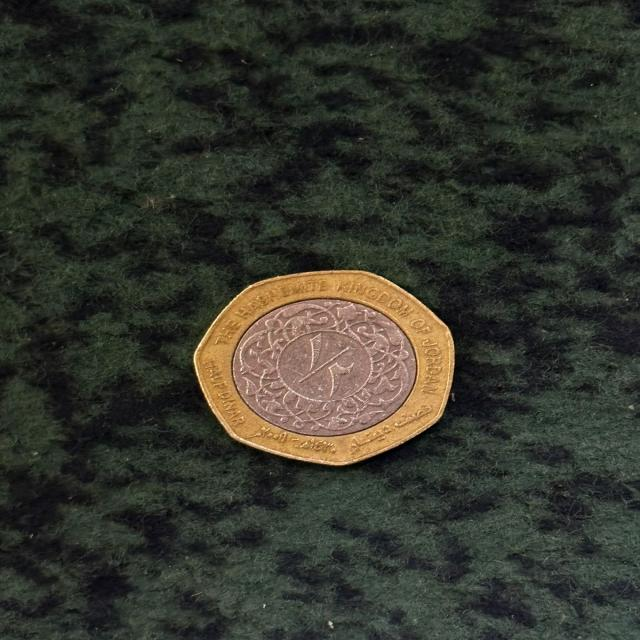50-coins: (201, 270, 454, 466)
